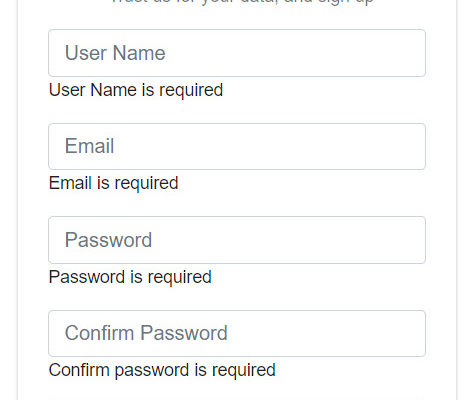_form_: (22, 1, 438, 400)
field: (47, 28, 428, 78), (47, 215, 427, 265), (47, 123, 427, 172), (47, 309, 427, 357)
field_with_label: (45, 27, 430, 102), (45, 213, 430, 287), (45, 121, 429, 194), (45, 308, 429, 381)
